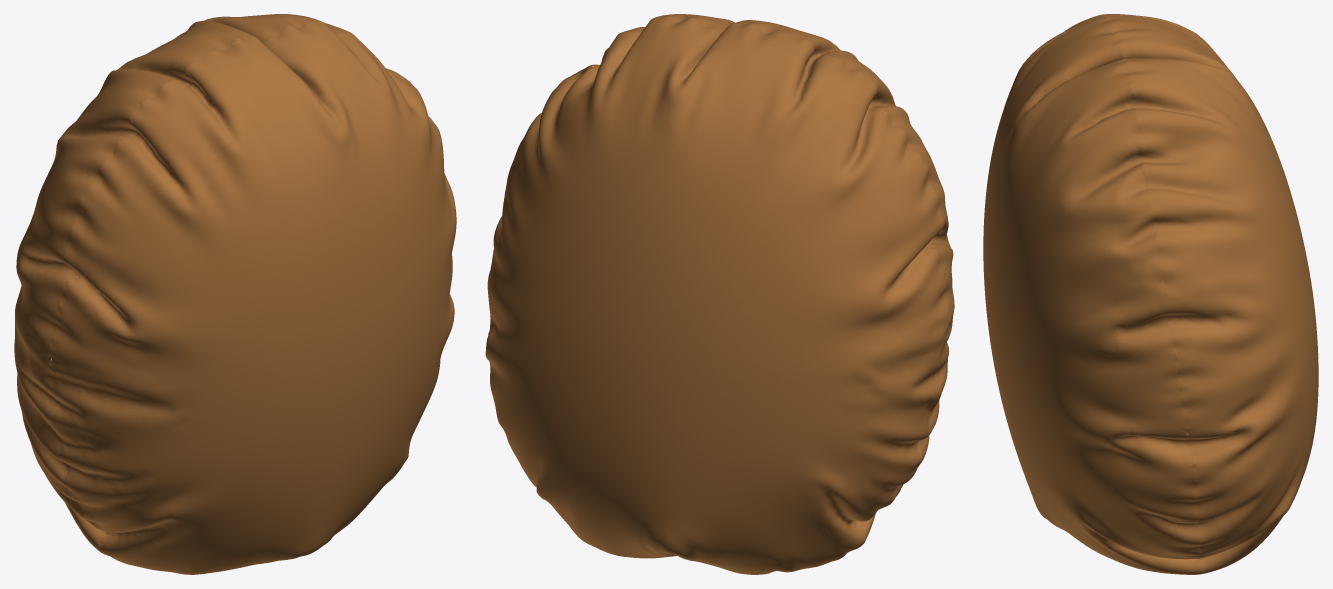
File: jayround.gltf
3 views of the same model, side by side, from view 1: azimuth 30°, elevation 25°; view 2: azimuth 150°, elevation 25°; view 3: azimuth 270°, elevation 25° (orthographic). The views are drawn at different scales.
Parts seen in each view (by area): view 1: jayround_high2; view 2: jayround_high2; view 3: jayround_high2.
Part boxes in pixels (left/top/right/bottom): jayround_high2: left=14, top=14, right=456, bottom=574; jayround_high2: left=485, top=14, right=954, bottom=574; jayround_high2: left=983, top=14, right=1318, bottom=574.
Size of the model in its own units: 0.4391 by 0.5076 by 0.3186.
1 material, 1 textured.
